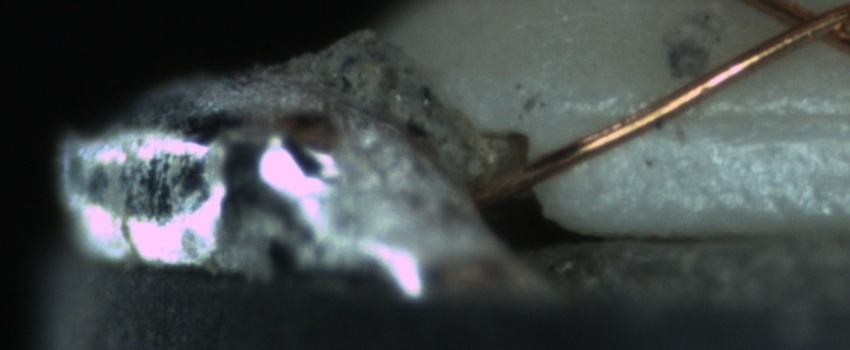CL: (765, 1, 849, 53)
DL: (607, 83, 845, 157)
